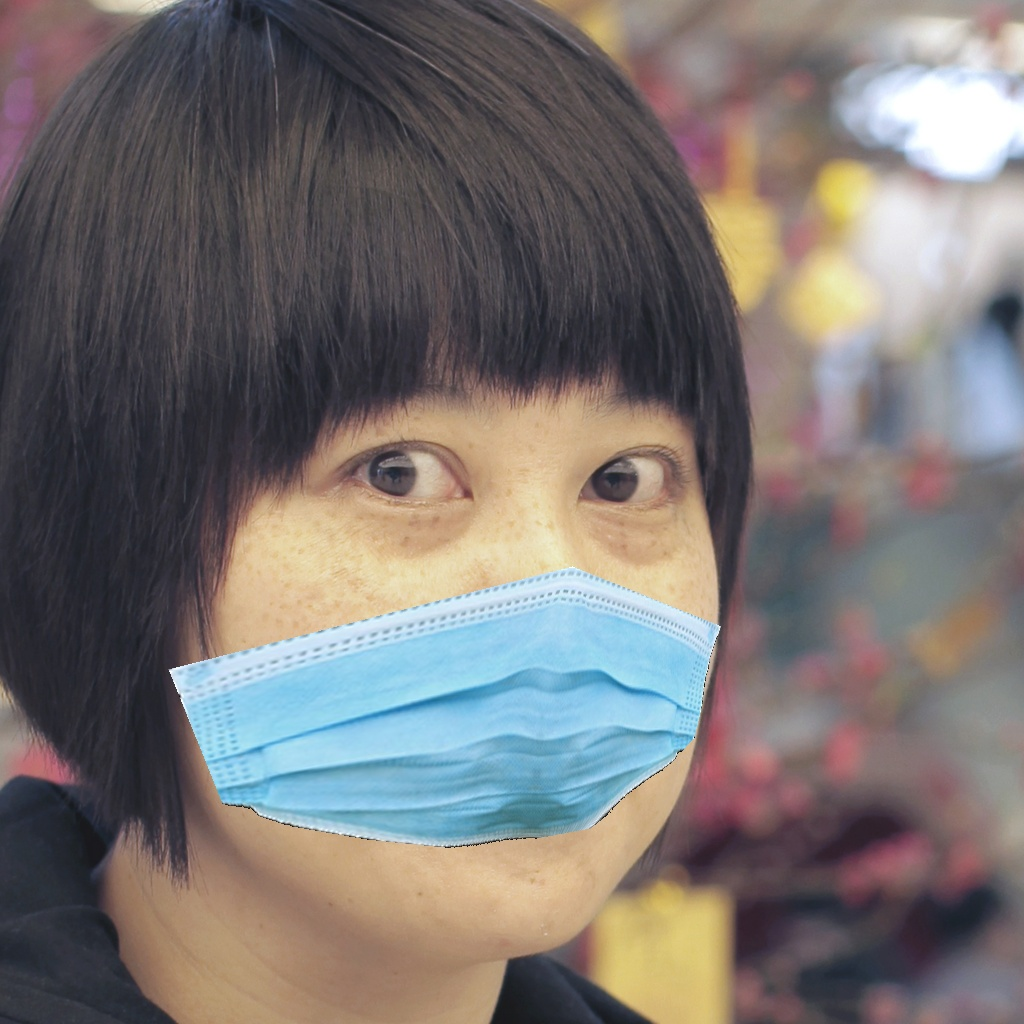mask_weared_incorrect: (143, 353, 772, 944)
